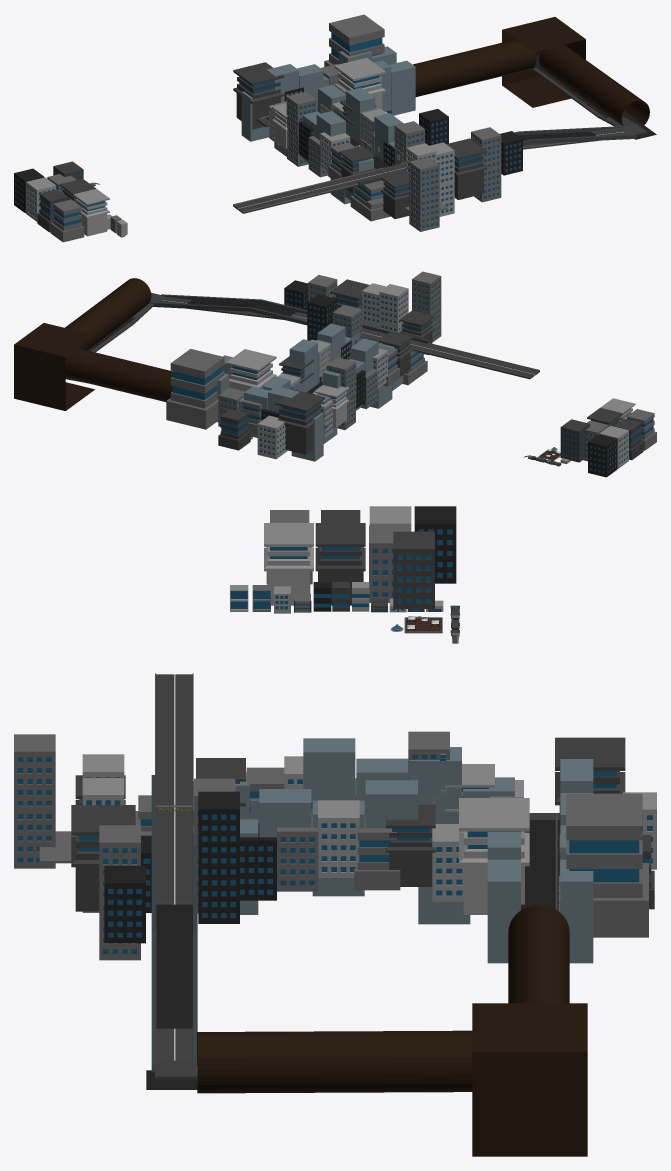
The model's file is main.glb.
3 views of the same model, one above another, from view 1: azimuth 30°, elevation 25°; view 2: azimuth 150°, elevation 25°; view 3: azimuth 270°, elevation 25° (orthographic). The views are drawn at different scales.
Parts seen in each view (by area): view 1: tunnel, buildings, side buildings, roads.001, roads, skyskraper 8.005, skyskraper 2.005, skyskraper 2.004, skyscraper 1.001, skyscraper 1, skyskraper 3.008, skyskraper 8 (+16 smaller); view 2: tunnel, side buildings, buildings, skyskraper 8.005, roads.001, roads, skyskraper 2.005, skyscraper 1.001, skyskraper 5, skyskraper 3.008, skyskraper 6.009, skyskraper 7.001 (+19 smaller); view 3: tunnel, buildings, side buildings, roads.001, roads, skyskraper 8.005, skyscraper 1.001, skyskraper 2.004, skyscraper 1, skyskraper 4.001, skyskraper 5.007, skyskraper 5.005 (+11 smaller).
Part boxes in pixels (x1,y1,x2,y2): tunnel: (413, 17, 649, 125); buildings: (241, 46, 415, 204); side buildings: (269, 91, 424, 193); roads.001: (233, 68, 646, 213); roads: (265, 55, 656, 185); skyskraper 8.005: (324, 14, 384, 66); skyskraper 2.005: (233, 62, 284, 129); skyskraper 2.004: (446, 138, 486, 199); skyscraper 1.001: (334, 57, 385, 109); skyscraper 1: (73, 188, 109, 236); skyskraper 3.008: (409, 157, 439, 201); skyskraper 8: (50, 199, 84, 242); tunnel: (14, 278, 172, 410); side buildings: (278, 305, 412, 437); buildings: (216, 323, 403, 461); skyskraper 8.005: (166, 349, 224, 429); roads.001: (65, 292, 539, 429); roads: (65, 294, 428, 399); skyskraper 2.005: (275, 389, 324, 454); skyscraper 1.001: (226, 349, 276, 391); skyskraper 5: (588, 434, 617, 477); skyskraper 3.008: (412, 271, 441, 314); skyskraper 6.009: (257, 415, 287, 459); skyskraper 7.001: (218, 409, 250, 450); tunnel: (197, 905, 587, 1156); buildings: (235, 738, 593, 963); side buildings: (194, 731, 523, 913); roads.001: (39, 673, 559, 1079); roads: (146, 775, 559, 1089); skyskraper 8.005: (560, 793, 648, 937); skyscraper 1.001: (459, 798, 529, 914); skyskraper 2.004: (71, 805, 135, 911); skyscraper 1: (264, 523, 313, 605); skyskraper 4.001: (393, 531, 434, 608); skyskraper 5.007: (104, 866, 145, 943); skyskraper 5.005: (198, 791, 239, 868).
Bounding box in the file's own units: 876 × 131 × 450.
Materials: 2 (2 with a texture image).
